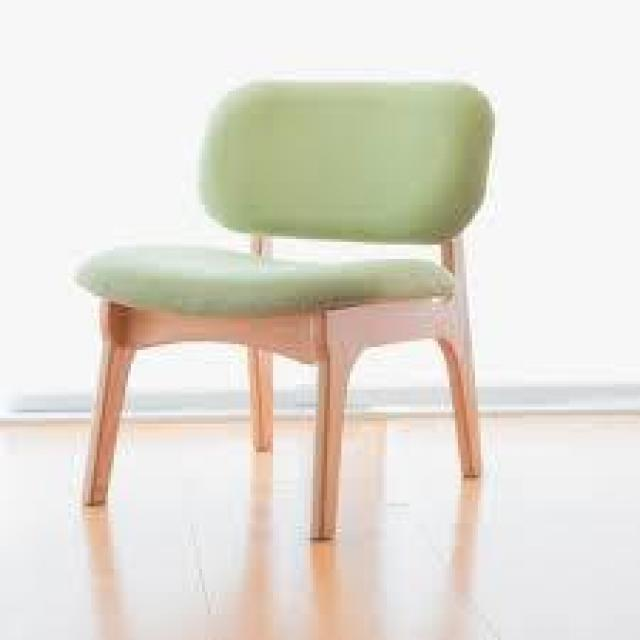chair: (50, 65, 528, 586)
